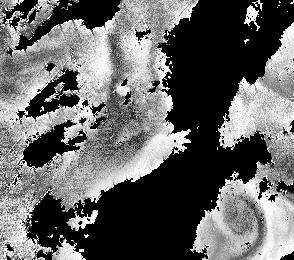CE: (217, 182, 269, 243)
